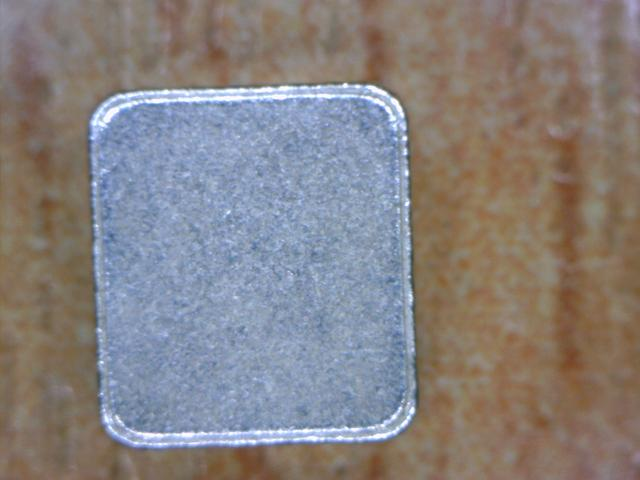nok: (83, 79, 427, 448)
